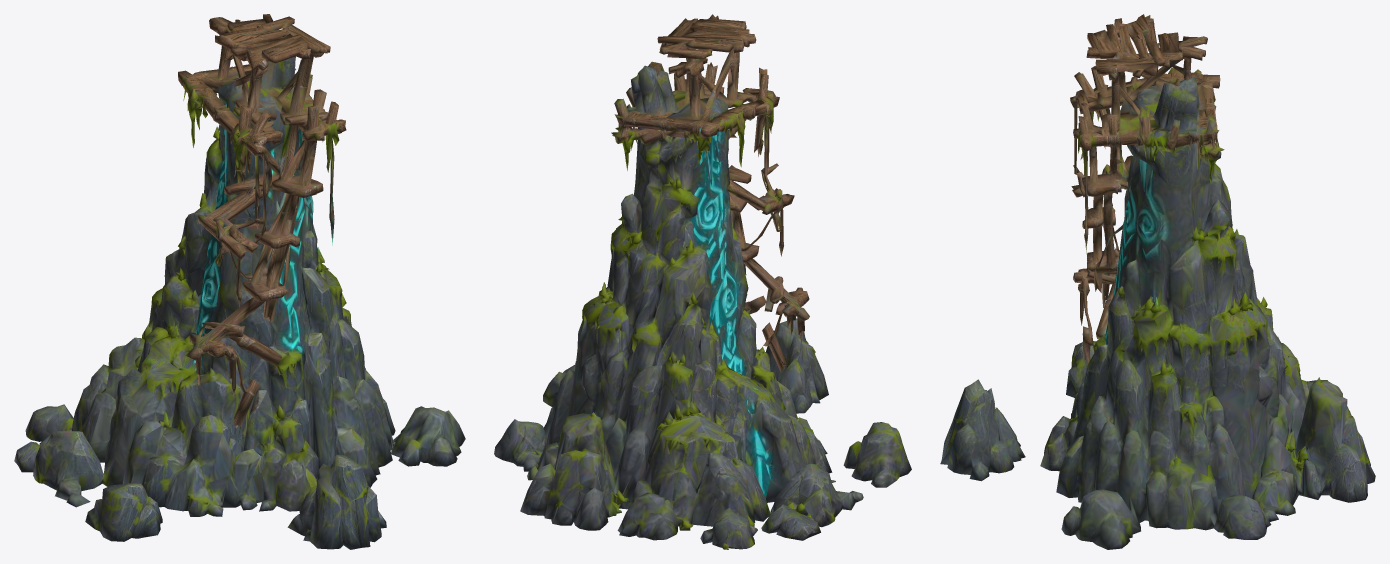
Rendered from collapsed_watchtower.glb.
3 renders of one model, left to right at view 1: azimuth 30°, elevation 25°; view 2: azimuth 150°, elevation 25°; view 3: azimuth 270°, elevation 25°, orthographic. The views are drawn at different scales.
Parts seen in each view (by area): view 1: Model; view 2: Model; view 3: Model.
Part boxes in pixels (x1,y1,x2,y2): Model: (14,14,465,549); Model: (494,14,911,549); Model: (940,14,1375,549).
Bounding box in the file's own units: 29.78 × 34 × 31.24.
1 material, 1 textured.
